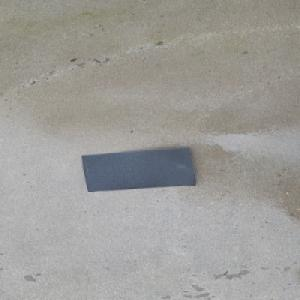PaintChip: (80, 146, 196, 192)
